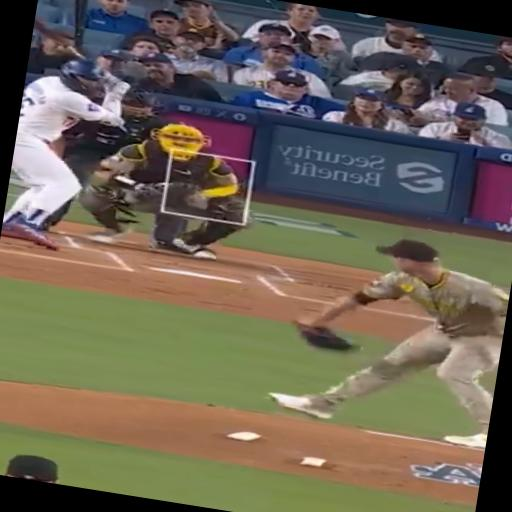bat: (34, 18, 116, 80)
